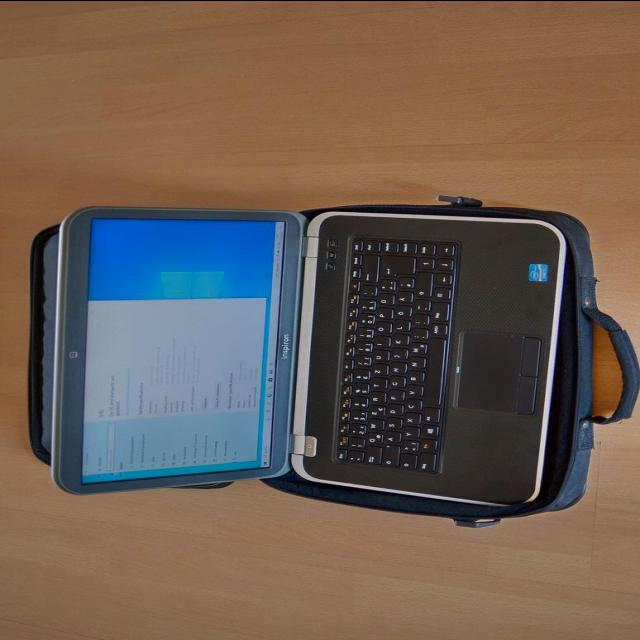0: (355, 315, 373, 327)
1: (347, 438, 363, 450)
2: (346, 425, 364, 437)
3: (349, 411, 365, 423)
4: (349, 398, 365, 410)
5: (350, 384, 368, 396)
6: (351, 370, 369, 382)
7: (353, 356, 369, 368)
8: (353, 342, 371, 354)
9: (354, 328, 372, 340)
a: (381, 432, 399, 444)
accent: (357, 286, 375, 298)
ae: (393, 293, 411, 305)
alt-left: (420, 409, 438, 425)
altgr-right: (427, 324, 445, 337)
b: (403, 372, 421, 385)
c: (402, 400, 418, 412)
caret: (344, 452, 360, 465)
comma: (409, 329, 425, 341)
d: (384, 405, 400, 417)
del: (359, 256, 375, 284)
e: (365, 407, 383, 419)
enter: (377, 257, 413, 279)
f: (384, 392, 402, 404)
g: (386, 377, 402, 389)
h: (387, 364, 403, 376)
hash: (394, 278, 412, 290)
i: (371, 337, 387, 349)
j: (388, 349, 406, 361)
k: (389, 335, 407, 347)
keyboard: (329, 231, 462, 477)
l: (390, 321, 408, 333)
less: (398, 441, 416, 453)
m: (406, 344, 424, 356)
minus: (411, 301, 429, 314)
n: (405, 358, 423, 370)
o: (372, 323, 388, 335)
oe: (391, 307, 409, 319)
p: (373, 309, 389, 321)
plus: (375, 281, 393, 293)
point: (409, 316, 427, 328)
q: (364, 433, 380, 446)
r: (367, 392, 383, 404)
s: (382, 419, 400, 431)
shift-left: (397, 455, 415, 471)
shift-lock: (381, 446, 397, 468)
shift-right: (412, 272, 430, 298)
space: (423, 339, 443, 406)
ss: (356, 300, 374, 313)
strg-left: (418, 453, 436, 471)
strg-right: (429, 303, 447, 323)
t: (368, 379, 384, 391)
tab: (363, 448, 379, 466)
u: (370, 351, 386, 363)
ue: (375, 295, 391, 307)
v: (403, 386, 421, 398)
w: (365, 421, 381, 432)
x: (402, 414, 418, 426)
y: (401, 428, 417, 440)
z: (369, 365, 385, 377)
